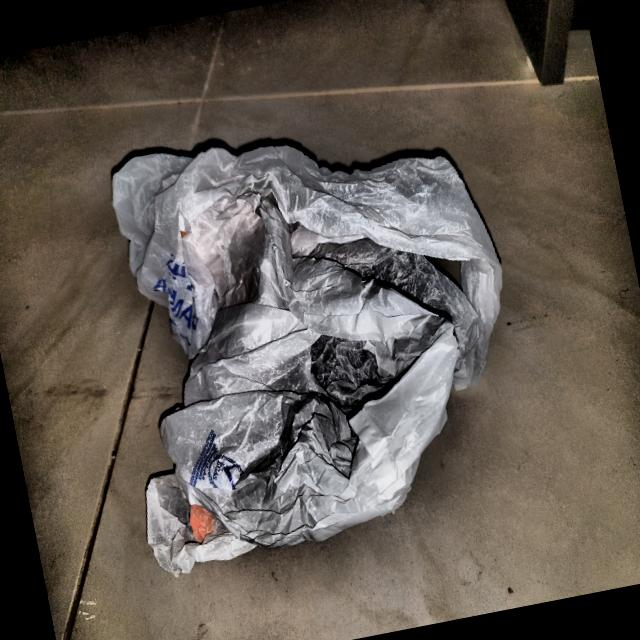plastic bag: (59, 72, 564, 598)
